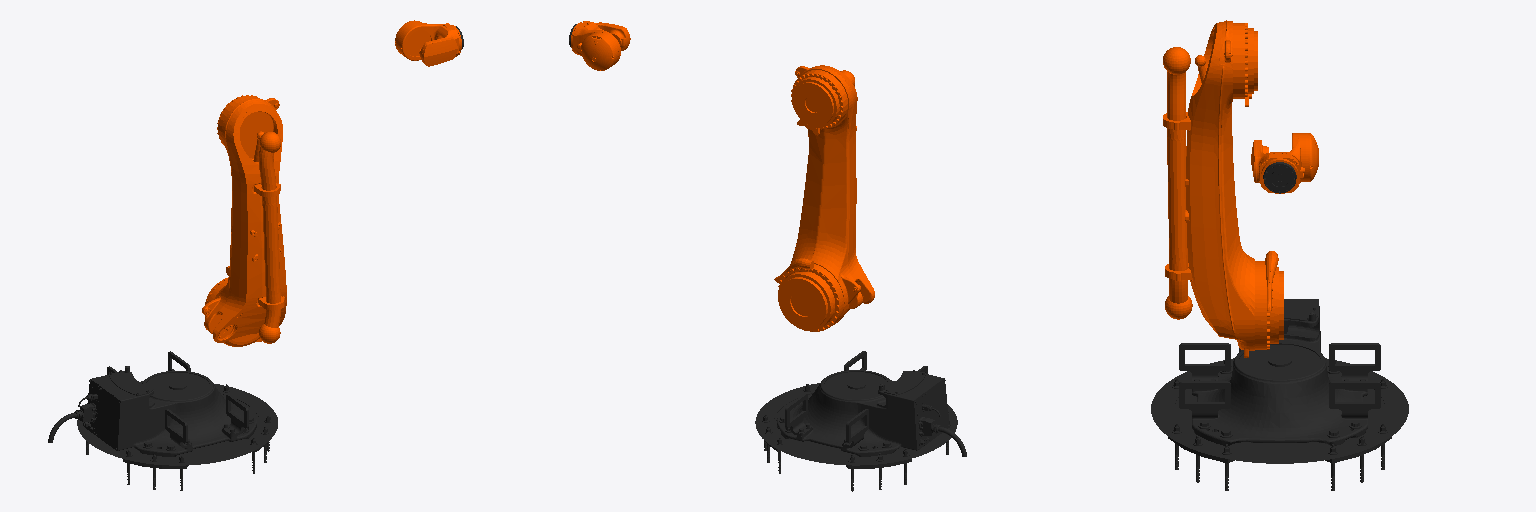
robot.urdf — kuka_kr_150_r2700_2:
<?xml version="1.0"?>
<robot name="kuka_kr_150_r2700_2">
  <material name="kuka_orange"><color rgba="1.00 0.40 0.00 1.0"/></material>
  <material name="kuka_dark_gray"><color rgba="0.20 0.20 0.20 1.0"/></material>

  <link name="base_link">
    <inertial>
      <origin xyz="-0.063175 0.000446 0.055669" rpy="0 0 0"/>
      <mass value="266.667"/>
      <inertia ixx="11.303607" ixy="0.031295" ixz="1.255192" iyy="14.090030" iyz="-0.017823" izz="22.405508"/>
    </inertial>
    <visual>
      <origin xyz="0 0 0" rpy="0 0 0"/>
      <geometry><mesh filename="meshes/visual/base_link.stl"/></geometry>
      <material name="kuka_dark_gray"/>
    </visual>
    <collision>
      <origin xyz="0 0 0" rpy="0 0 0"/>
      <geometry><mesh filename="meshes/visual/base_link.stl"/></geometry>
    </collision>
  </link>

  <link name="link_1">
    <inertial>
      <origin xyz="0.042889 -0.054418 0.478345" rpy="0 0 0"/>
      <mass value="291.337"/>
      <inertia ixx="13.874528" ixy="0.442361" ixz="3.087997" iyy="21.367205" iyz="-2.402626" izz="18.811164"/>
    </inertial>
    <visual>
      <origin xyz="0 0 0" rpy="0 0 0"/>
      <geometry><mesh filename="meshes/visual/link_1.stl"/></geometry>
      <material name="kuka_orange"/>
    </visual>
    <collision>
      <origin xyz="0 0 0" rpy="0 0 0"/>
      <geometry><mesh filename="meshes/visual/link_1.stl"/></geometry>
    </collision>
  </link>

  <link name="link_2">
    <inertial>
      <origin xyz="-0.003569 -0.260908 0.515879" rpy="0 0 0"/>
      <mass value="451.081"/>
      <inertia ixx="62.260597" ixy="-0.006324" ixz="-0.554271" iyy="59.967129" iyz="3.886497" izz="8.400744"/>
    </inertial>
    <visual>
      <origin xyz="0 0 0" rpy="0 0 0"/>
      <geometry><mesh filename="meshes/visual/link_2.stl"/></geometry>
      <material name="kuka_orange"/>
    </visual>
    <collision>
      <origin xyz="0 0 0" rpy="0 0 0"/>
      <geometry><mesh filename="meshes/visual/link_2.stl"/></geometry>
    </collision>
  </link>

  <link name="link_3">
    <inertial>
      <origin xyz="0.158864 -0.008239 0.147830" rpy="0 0 0"/>
      <mass value="369.614"/>
      <inertia ixx="9.644671" ixy="1.212690" ixz="0.591691" iyy="24.554288" iyz="-0.515643" izz="26.268661"/>
    </inertial>
    <visual>
      <origin xyz="0 0 0" rpy="0 0 0"/>
      <geometry><mesh filename="meshes/visual/link_3.stl"/></geometry>
      <material name="kuka_orange"/>
    </visual>
    <collision>
      <origin xyz="0 0 0" rpy="0 0 0"/>
      <geometry><mesh filename="meshes/visual/link_3.stl"/></geometry>
    </collision>
  </link>

  <link name="link_4">
    <inertial>
      <origin xyz="-0.276029 0.002247 0.000021" rpy="0 0 0"/>
      <mass value="132.401"/>
      <inertia ixx="1.055430" ixy="-0.052267" ixz="-0.000241" iyy="2.487074" iyz="-0.000012" izz="2.493136"/>
    </inertial>
    <visual>
      <origin xyz="0 0 0" rpy="0 0 0"/>
      <geometry><mesh filename="meshes/visual/link_4.stl"/></geometry>
      <material name="kuka_orange"/>
    </visual>
    <collision>
      <origin xyz="0 0 0" rpy="0 0 0"/>
      <geometry><mesh filename="meshes/visual/link_4.stl"/></geometry>
    </collision>
  </link>

  <link name="link_5">
    <inertial>
      <origin xyz="0.059196 0.022328 -0.000327" rpy="0 0 0"/>
      <mass value="61.213"/>
      <inertia ixx="0.450308" ixy="0.058667" ixz="-0.000684" iyy="0.452708" iyz="-0.000966" izz="0.607982"/>
    </inertial>
    <visual>
      <origin xyz="0 0 0" rpy="0 0 0"/>
      <geometry><mesh filename="meshes/visual/link_5.stl"/></geometry>
      <material name="kuka_orange"/>
    </visual>
    <collision>
      <origin xyz="0 0 0" rpy="0 0 0"/>
      <geometry><mesh filename="meshes/visual/link_5.stl"/></geometry>
    </collision>
  </link>

  <link name="link_6">
    <inertial>
      <origin xyz="-0.019788 0.000037 -0.000234" rpy="0 0 0"/>
      <mass value="22.480"/>
      <inertia ixx="0.065757" ixy="-0.000007" ixz="0.000019" iyy="0.047432" iyz="-0.000022" izz="0.048071"/>
    </inertial>
    <visual>
      <origin xyz="0 0 0" rpy="0 0 0"/>
      <geometry><mesh filename="meshes/visual/link_6.stl"/></geometry>
      <material name="kuka_dark_gray"/>
    </visual>
    <collision>
      <origin xyz="0 0 0" rpy="0 0 0"/>
      <geometry><mesh filename="meshes/visual/link_6.stl"/></geometry>
    </collision>
  </link>

  <link name="tool0"/>

  <joint name="joint_a1" type="revolute">
    <parent link="base_link"/>
    <child link="link_1"/>
    <origin xyz="0.000000 0.000000 0.000000" rpy="0 0 0"/>
    <axis xyz="0.0 0.0 -1.0"/>
    <limit lower="-3.228859" upper="3.228859" effort="7290.0" velocity="2.038482"/>
    <dynamics damping="5.0" friction="1.0"/>
  </joint>

  <joint name="joint_a2" type="revolute">
    <parent link="link_1"/>
    <child link="link_2"/>
    <origin xyz="0.330000 0.000000 0.645000" rpy="0 0 0"/>
    <axis xyz="0.0 1.0 0.0"/>
    <limit lower="-0.872665" upper="1.483530" effort="8910.0" velocity="1.945187"/>
    <dynamics damping="5.0" friction="1.0"/>
  </joint>

  <joint name="joint_a3" type="revolute">
    <parent link="link_2"/>
    <child link="link_3"/>
    <origin xyz="0.000000 0.000000 1.150000" rpy="0 0 0"/>
    <axis xyz="0.0 1.0 0.0"/>
    <limit lower="-3.665191" upper="1.361357" effort="7192.4" velocity="2.083283"/>
    <dynamics damping="5.0" friction="1.0"/>
  </joint>

  <joint name="joint_a4" type="revolute">
    <parent link="link_3"/>
    <child link="link_4"/>
    <origin xyz="1.220000 0.000000 0.115000" rpy="0 0 0"/>
    <axis xyz="-1.0 0.0 -0.0"/>
    <limit lower="-6.108652" upper="6.108652" effort="2432.6" velocity="3.316126"/>
    <dynamics damping="5.0" friction="1.0"/>
  </joint>

  <joint name="joint_a5" type="revolute">
    <parent link="link_4"/>
    <child link="link_5"/>
    <origin xyz="0.000000 0.000000 0.000000" rpy="0 0 0"/>
    <axis xyz="0.0 1.0 0.0"/>
    <limit lower="-2.181662" upper="2.181662" effort="1460.6" velocity="3.141593"/>
    <dynamics damping="5.0" friction="1.0"/>
  </joint>

  <joint name="joint_a6" type="revolute">
    <parent link="link_5"/>
    <child link="link_6"/>
    <origin xyz="0.215000 0.000000 0.000000" rpy="0 0 0"/>
    <axis xyz="-1.0 0.0 -0.0"/>
    <limit lower="-6.108652" upper="6.108652" effort="892.5" velocity="4.537856"/>
    <dynamics damping="5.0" friction="1.0"/>
  </joint>

  <joint name="link_6-tool0" type="fixed">
    <parent link="link_6"/>
    <child link="tool0"/>
    <origin xyz="0.000000 0.000000 0.000000" rpy="0 1.57079632679 0"/>
  </joint>
</robot>

--- Render facts (derived) ---
Views: 3 orthographic renders of the robot side by side, from view 1: azimuth 30°, elevation 25°; view 2: azimuth 150°, elevation 25°; view 3: azimuth 270°, elevation 25°.
Robot: kuka_kr_150_r2700_2 — 8 links, 7 joints (6 revolute, 1 fixed); root link base_link; default pose: every joint at zero.
Visible links, largest first — view 1: base_link, link_2, link_5; view 2: base_link, link_2, link_5; view 3: base_link, link_2, link_5, link_6.
Link boxes in pixels (x1=…): base_link: x1=48, y1=351, x2=277, y2=490; link_2: x1=202, y1=95, x2=286, y2=346; link_5: x1=395, y1=20, x2=461, y2=66; base_link: x1=755, y1=351, x2=966, y2=491; link_2: x1=774, y1=65, x2=874, y2=331; link_5: x1=571, y1=21, x2=630, y2=70; base_link: x1=1151, y1=299, x2=1408, y2=490; link_2: x1=1163, y1=20, x2=1283, y2=357; link_5: x1=1251, y1=133, x2=1318, y2=193; link_6: x1=1263, y1=162, x2=1296, y2=193.
Size in the robot's own frame: 2.52 by 1.1 by 2.19 metres.
4 mesh visuals loaded from 7 distinct referenced files (4 binary STL); not drawn: 3 (reference not matched to a file when rendering).
